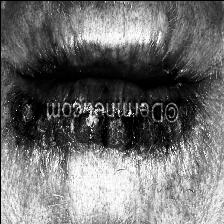Potentially Malignant Skin Tumors: (12, 115, 188, 146)
